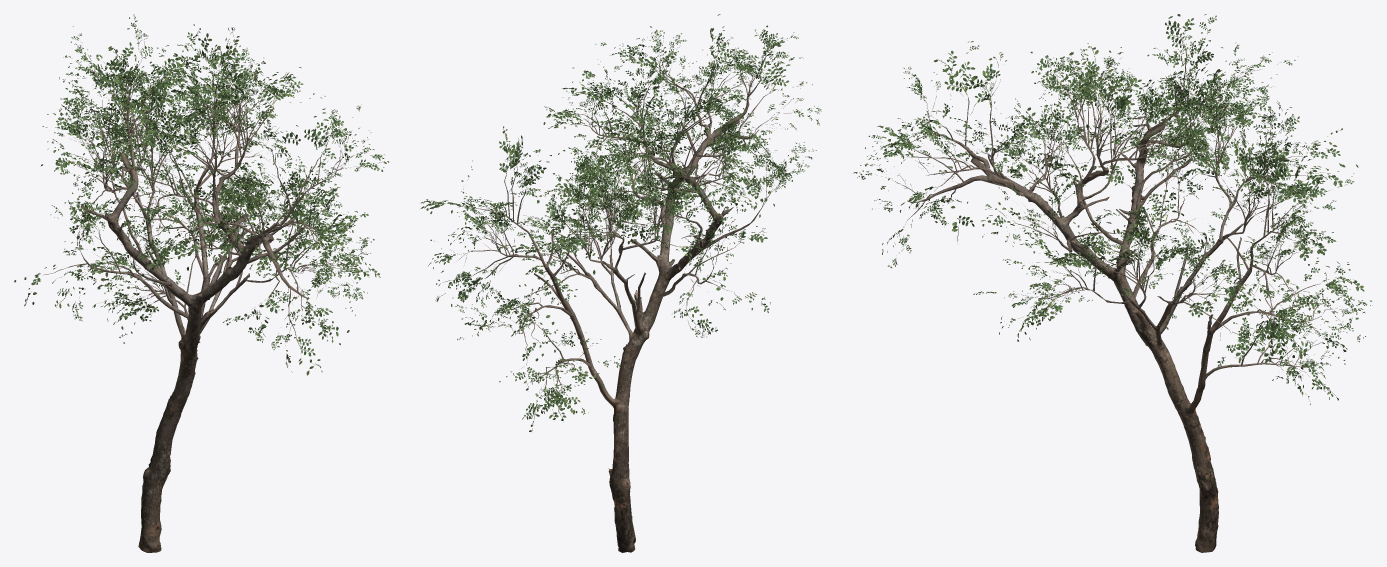
File: tree-web.glb
The picture shows the model from 3 angles, left to right: view 1: azimuth 30°, elevation 25°; view 2: azimuth 150°, elevation 25°; view 3: azimuth 270°, elevation 25°; orthographic projection. The views are drawn at different scales.
Parts seen in each view (by area): view 1: tree_small_02_LOD0.002, tree_small_02_LOD0.001, tree_small_02_LOD0; view 2: tree_small_02_LOD0.002, tree_small_02_LOD0, tree_small_02_LOD0.001; view 3: tree_small_02_LOD0.002, tree_small_02_LOD0.001, tree_small_02_LOD0.
Part boxes in pixels (x1,y1,x2,y2): tree_small_02_LOD0.002: (14,14,388,375); tree_small_02_LOD0.001: (46,43,356,345); tree_small_02_LOD0: (80,153,294,552); tree_small_02_LOD0.002: (420,14,821,431); tree_small_02_LOD0: (529,120,740,552); tree_small_02_LOD0.001: (450,43,797,400); tree_small_02_LOD0.002: (853,14,1371,404); tree_small_02_LOD0.001: (881,42,1347,379); tree_small_02_LOD0: (970,116,1253,552).
Size of the model in its own units: 2.91 by 4.56 by 4.28.
3 materials, 3 textured.
